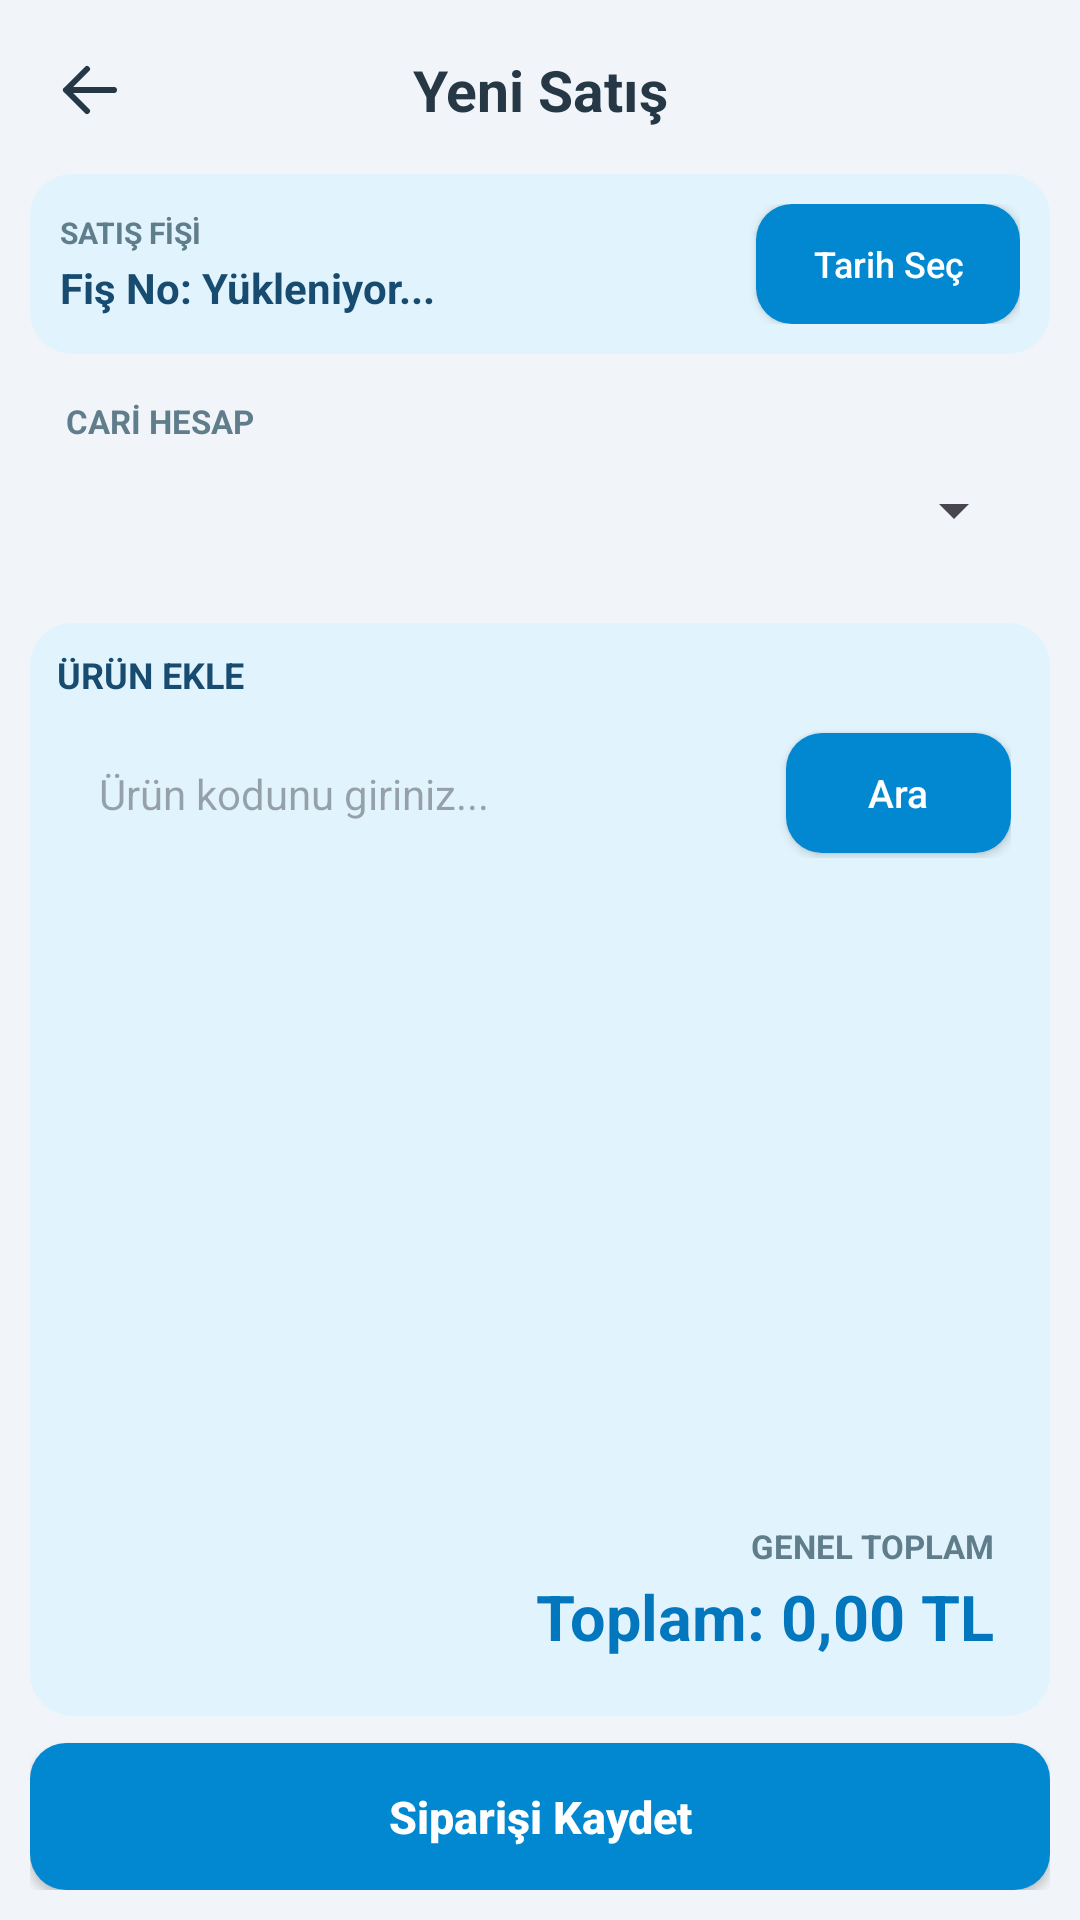

Where to tap for icons on this 1080px x 1920px app screen, as (x=x, y=y):
Geri: (x=90, y=90)
